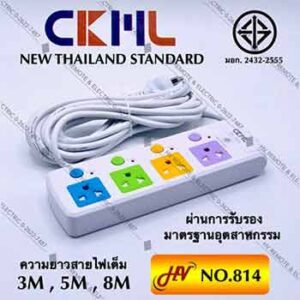Three_eye_plug: (40, 113, 274, 240)
